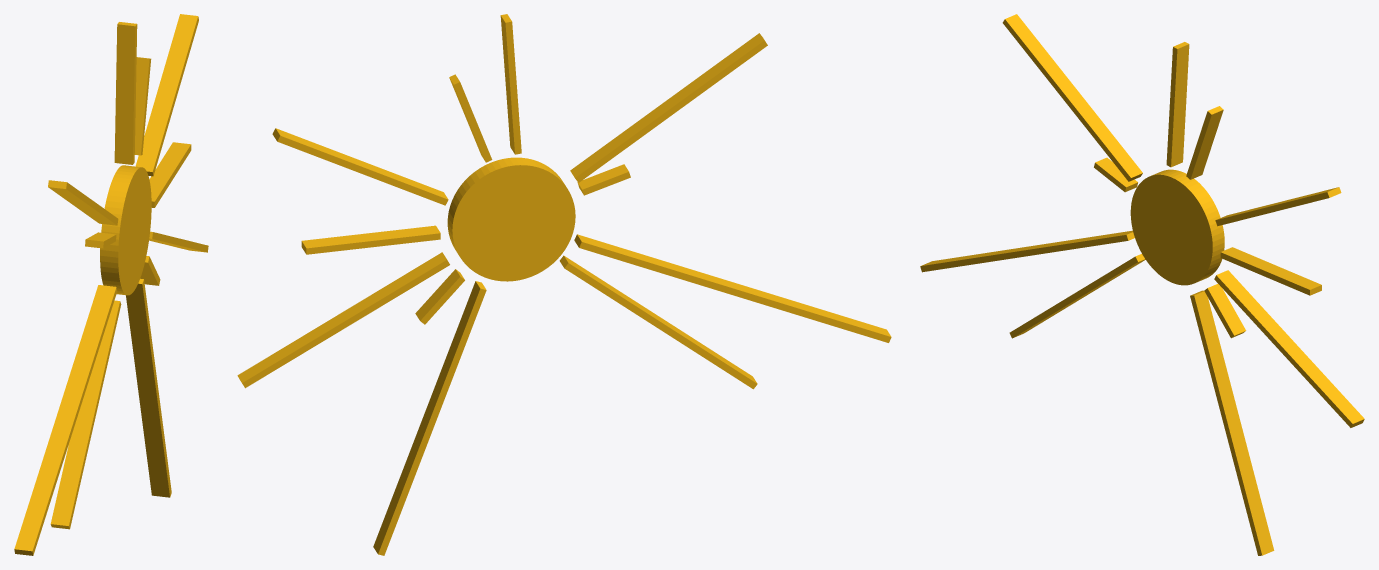
File: rays-03.glb
3 views of the same model, side by side, from view 1: azimuth 30°, elevation 25°; view 2: azimuth 150°, elevation 25°; view 3: azimuth 270°, elevation 25° (orthographic). The views are drawn at different scales.
Size of the model in its own units: 41.9 by 49.19 by 41.9.
